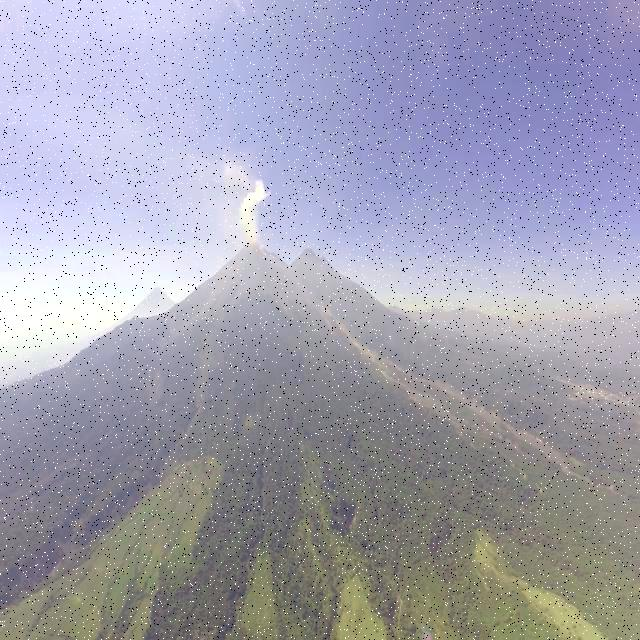Plume: (238, 180, 270, 244)
Summit: (236, 230, 268, 264)
